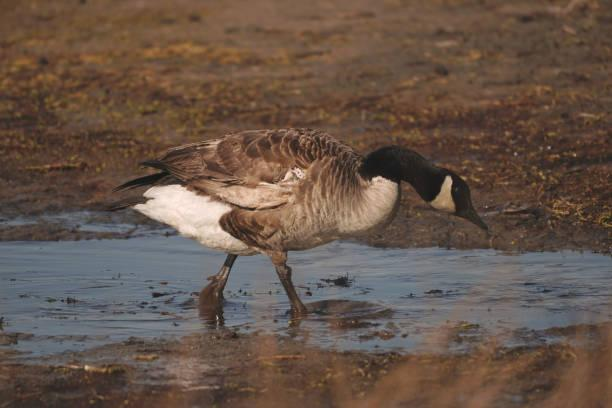Canadian-Goose: (115, 127, 487, 336)
